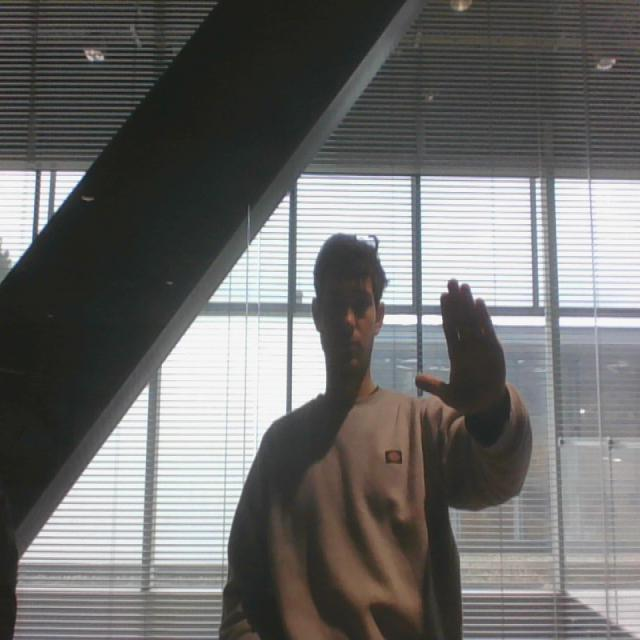backward: (410, 270, 526, 430)
